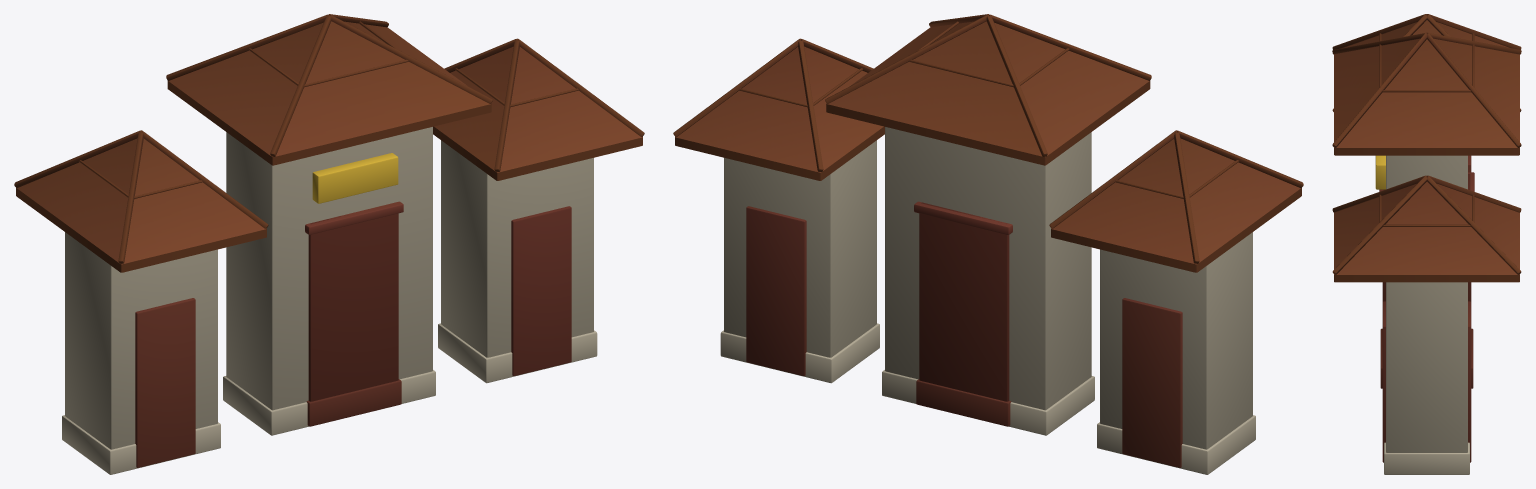
The model's file is lm-dendo.glb.
3 views of the same model, side by side, from view 1: azimuth 30°, elevation 25°; view 2: azimuth 150°, elevation 25°; view 3: azimuth 270°, elevation 25° (orthographic). The views are drawn at different scales.
Size of the model in its own units: 7.84 by 5.45 by 2.77.
